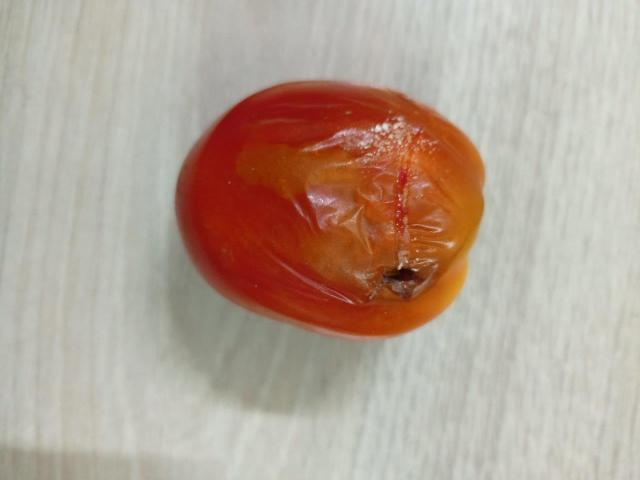defect: (169, 74, 490, 344)
